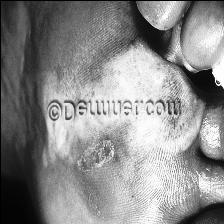Toxin: (51, 122, 171, 174), (99, 50, 178, 90)
